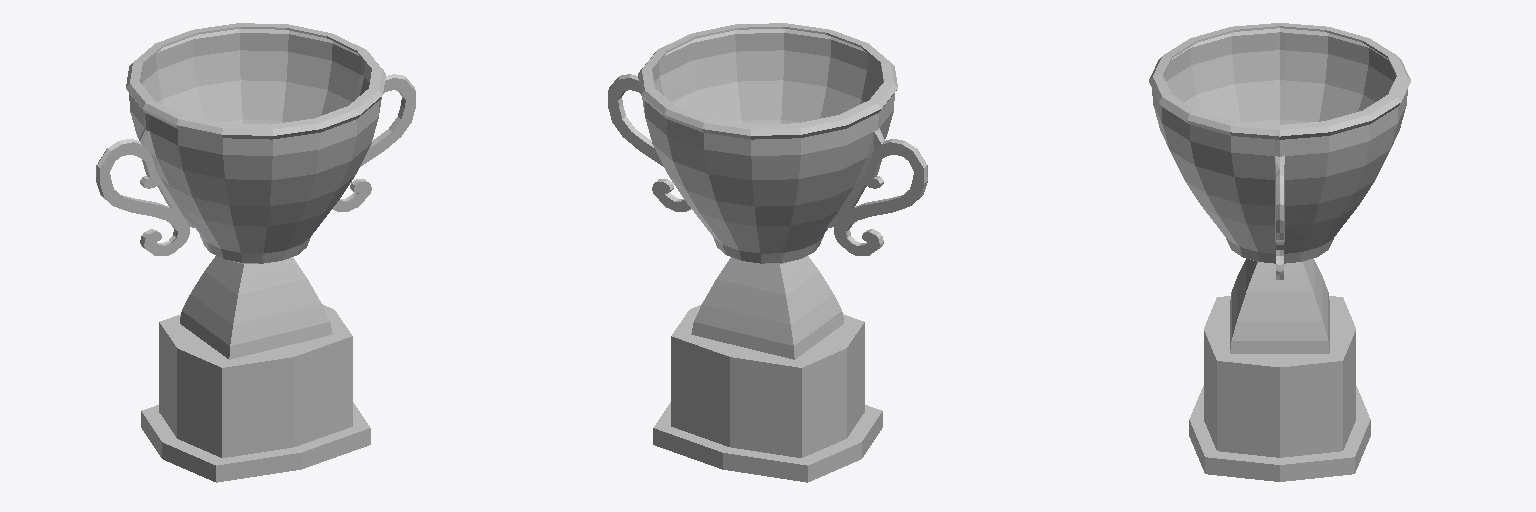
The model's file is кубок.obj.
3 renders of one model, left to right at view 1: azimuth 30°, elevation 25°; view 2: azimuth 150°, elevation 25°; view 3: azimuth 270°, elevation 25°, orthographic.
Visible parts, largest first — view 1: кубок; view 2: кубок; view 3: кубок.
Part boxes in pixels (left/top/right/bottom): кубок: left=96, top=23, right=415, bottom=482; кубок: left=608, top=23, right=927, bottom=482; кубок: left=1149, top=23, right=1410, bottom=481.
Bounding box in the file's own units: 2.25 × 2.44 × 1.61.